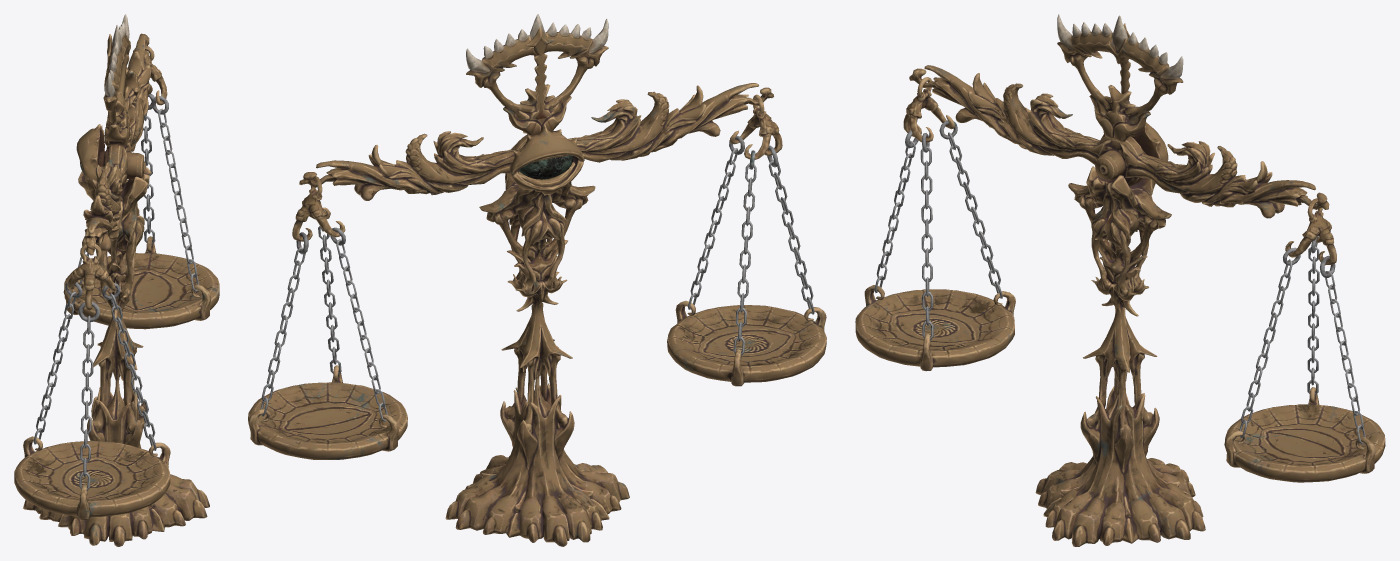
File: Scale 9.fbx
3 renders of one model, left to right at view 1: azimuth 30°, elevation 25°; view 2: azimuth 150°, elevation 25°; view 3: azimuth 270°, elevation 25°, orthographic. The views are drawn at different scales.
Visible parts, largest first — view 1: Scale, LeftDish, RightDish, Arms, LeftChains, RightChains, HandLeft, LeftRings, HandRight; view 2: Scale, Arms, LeftDish, RightDish, LeftChains, RightChains, HandLeft, HandRight, ArrowMesh, Eye; view 3: Scale, Arms, LeftDish, RightDish, LeftChains, RightChains, HandRight, HandLeft.
Boxes of the visible parts, x1,y1,x2,y2 form: Scale: [23, 14, 209, 546]; LeftDish: [14, 436, 170, 520]; RightDish: [63, 236, 219, 329]; Arms: [82, 33, 152, 255]; LeftChains: [33, 291, 156, 490]; RightChains: [78, 108, 199, 291]; HandLeft: [67, 243, 115, 310]; LeftRings: [65, 282, 120, 322]; HandRight: [133, 45, 167, 105]; Scale: [445, 14, 629, 546]; Arms: [299, 83, 773, 200]; LeftDish: [667, 300, 826, 386]; RightDish: [248, 365, 407, 459]; LeftChains: [688, 148, 814, 355]; RightChains: [260, 226, 387, 421]; HandLeft: [729, 94, 782, 159]; HandRight: [292, 176, 345, 241]; ArrowMesh: [525, 27, 555, 135]; Eye: [519, 155, 573, 179]; Scale: [1035, 14, 1205, 546]; Arms: [909, 65, 1329, 218]; LeftDish: [855, 285, 1015, 371]; RightDish: [1224, 387, 1385, 482]; LeftChains: [874, 132, 1002, 340]; RightChains: [1239, 246, 1365, 444]; HandRight: [1285, 198, 1336, 265]; HandLeft: [903, 77, 955, 142].
Size of the model in its own units: 3.13 by 3.96 by 3.83.
